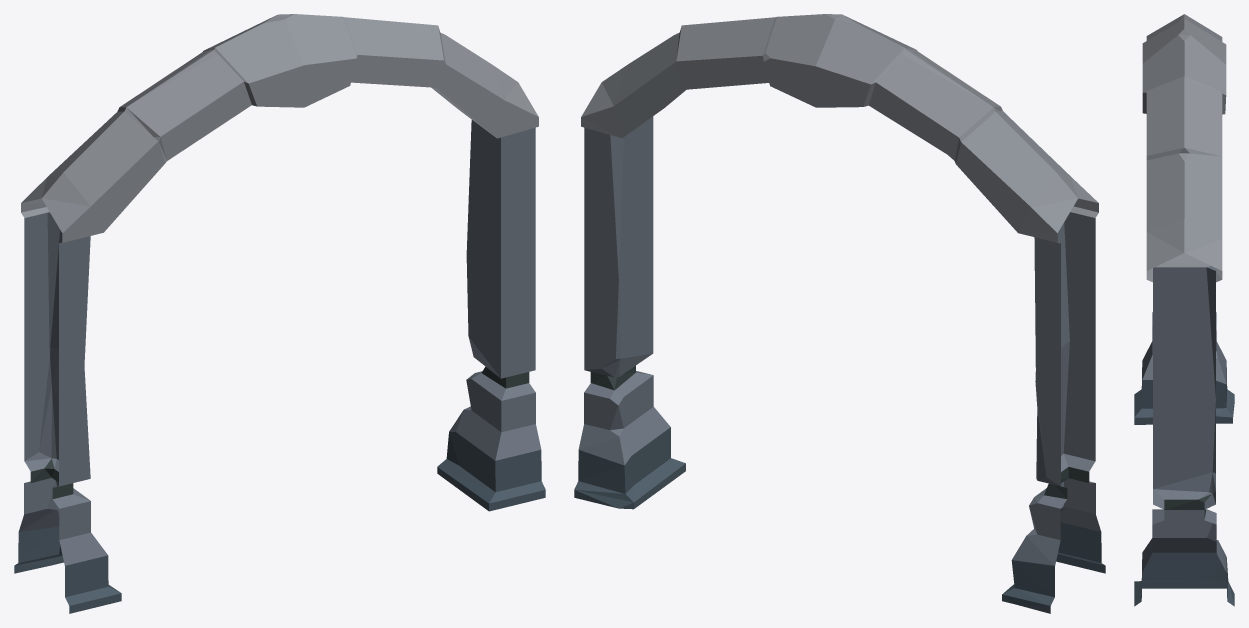
The model's file is Arch1.fbx.
3 views of the same model, side by side, from view 1: azimuth 30°, elevation 25°; view 2: azimuth 150°, elevation 25°; view 3: azimuth 270°, elevation 25° (orthographic). The views are drawn at different scales.
Visible parts, largest first — view 1: Arch1; view 2: Arch1; view 3: Arch1.
Boxes of the visible parts, x1,y1,x2,y2 form: Arch1: [14, 14, 545, 613]; Arch1: [574, 14, 1105, 613]; Arch1: [1134, 14, 1234, 606].
Bounding box in the file's own units: 600 × 624 × 120.
